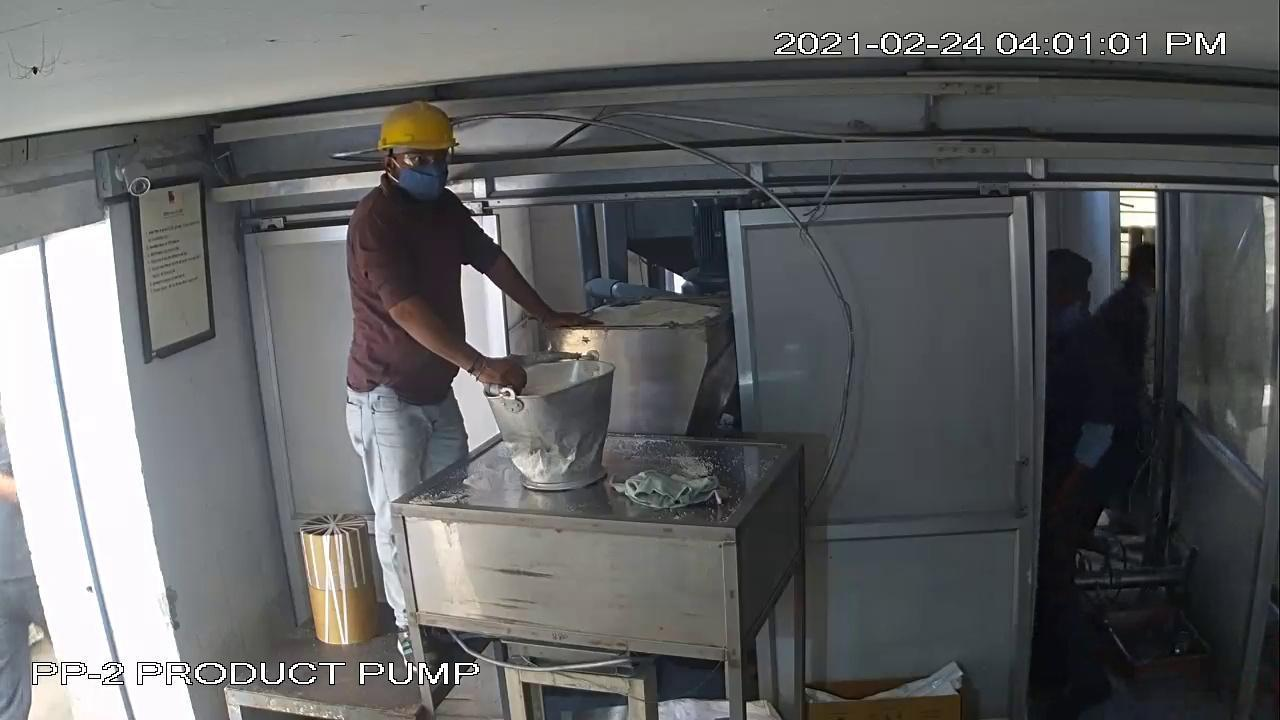helmet: (363, 99, 477, 159)
